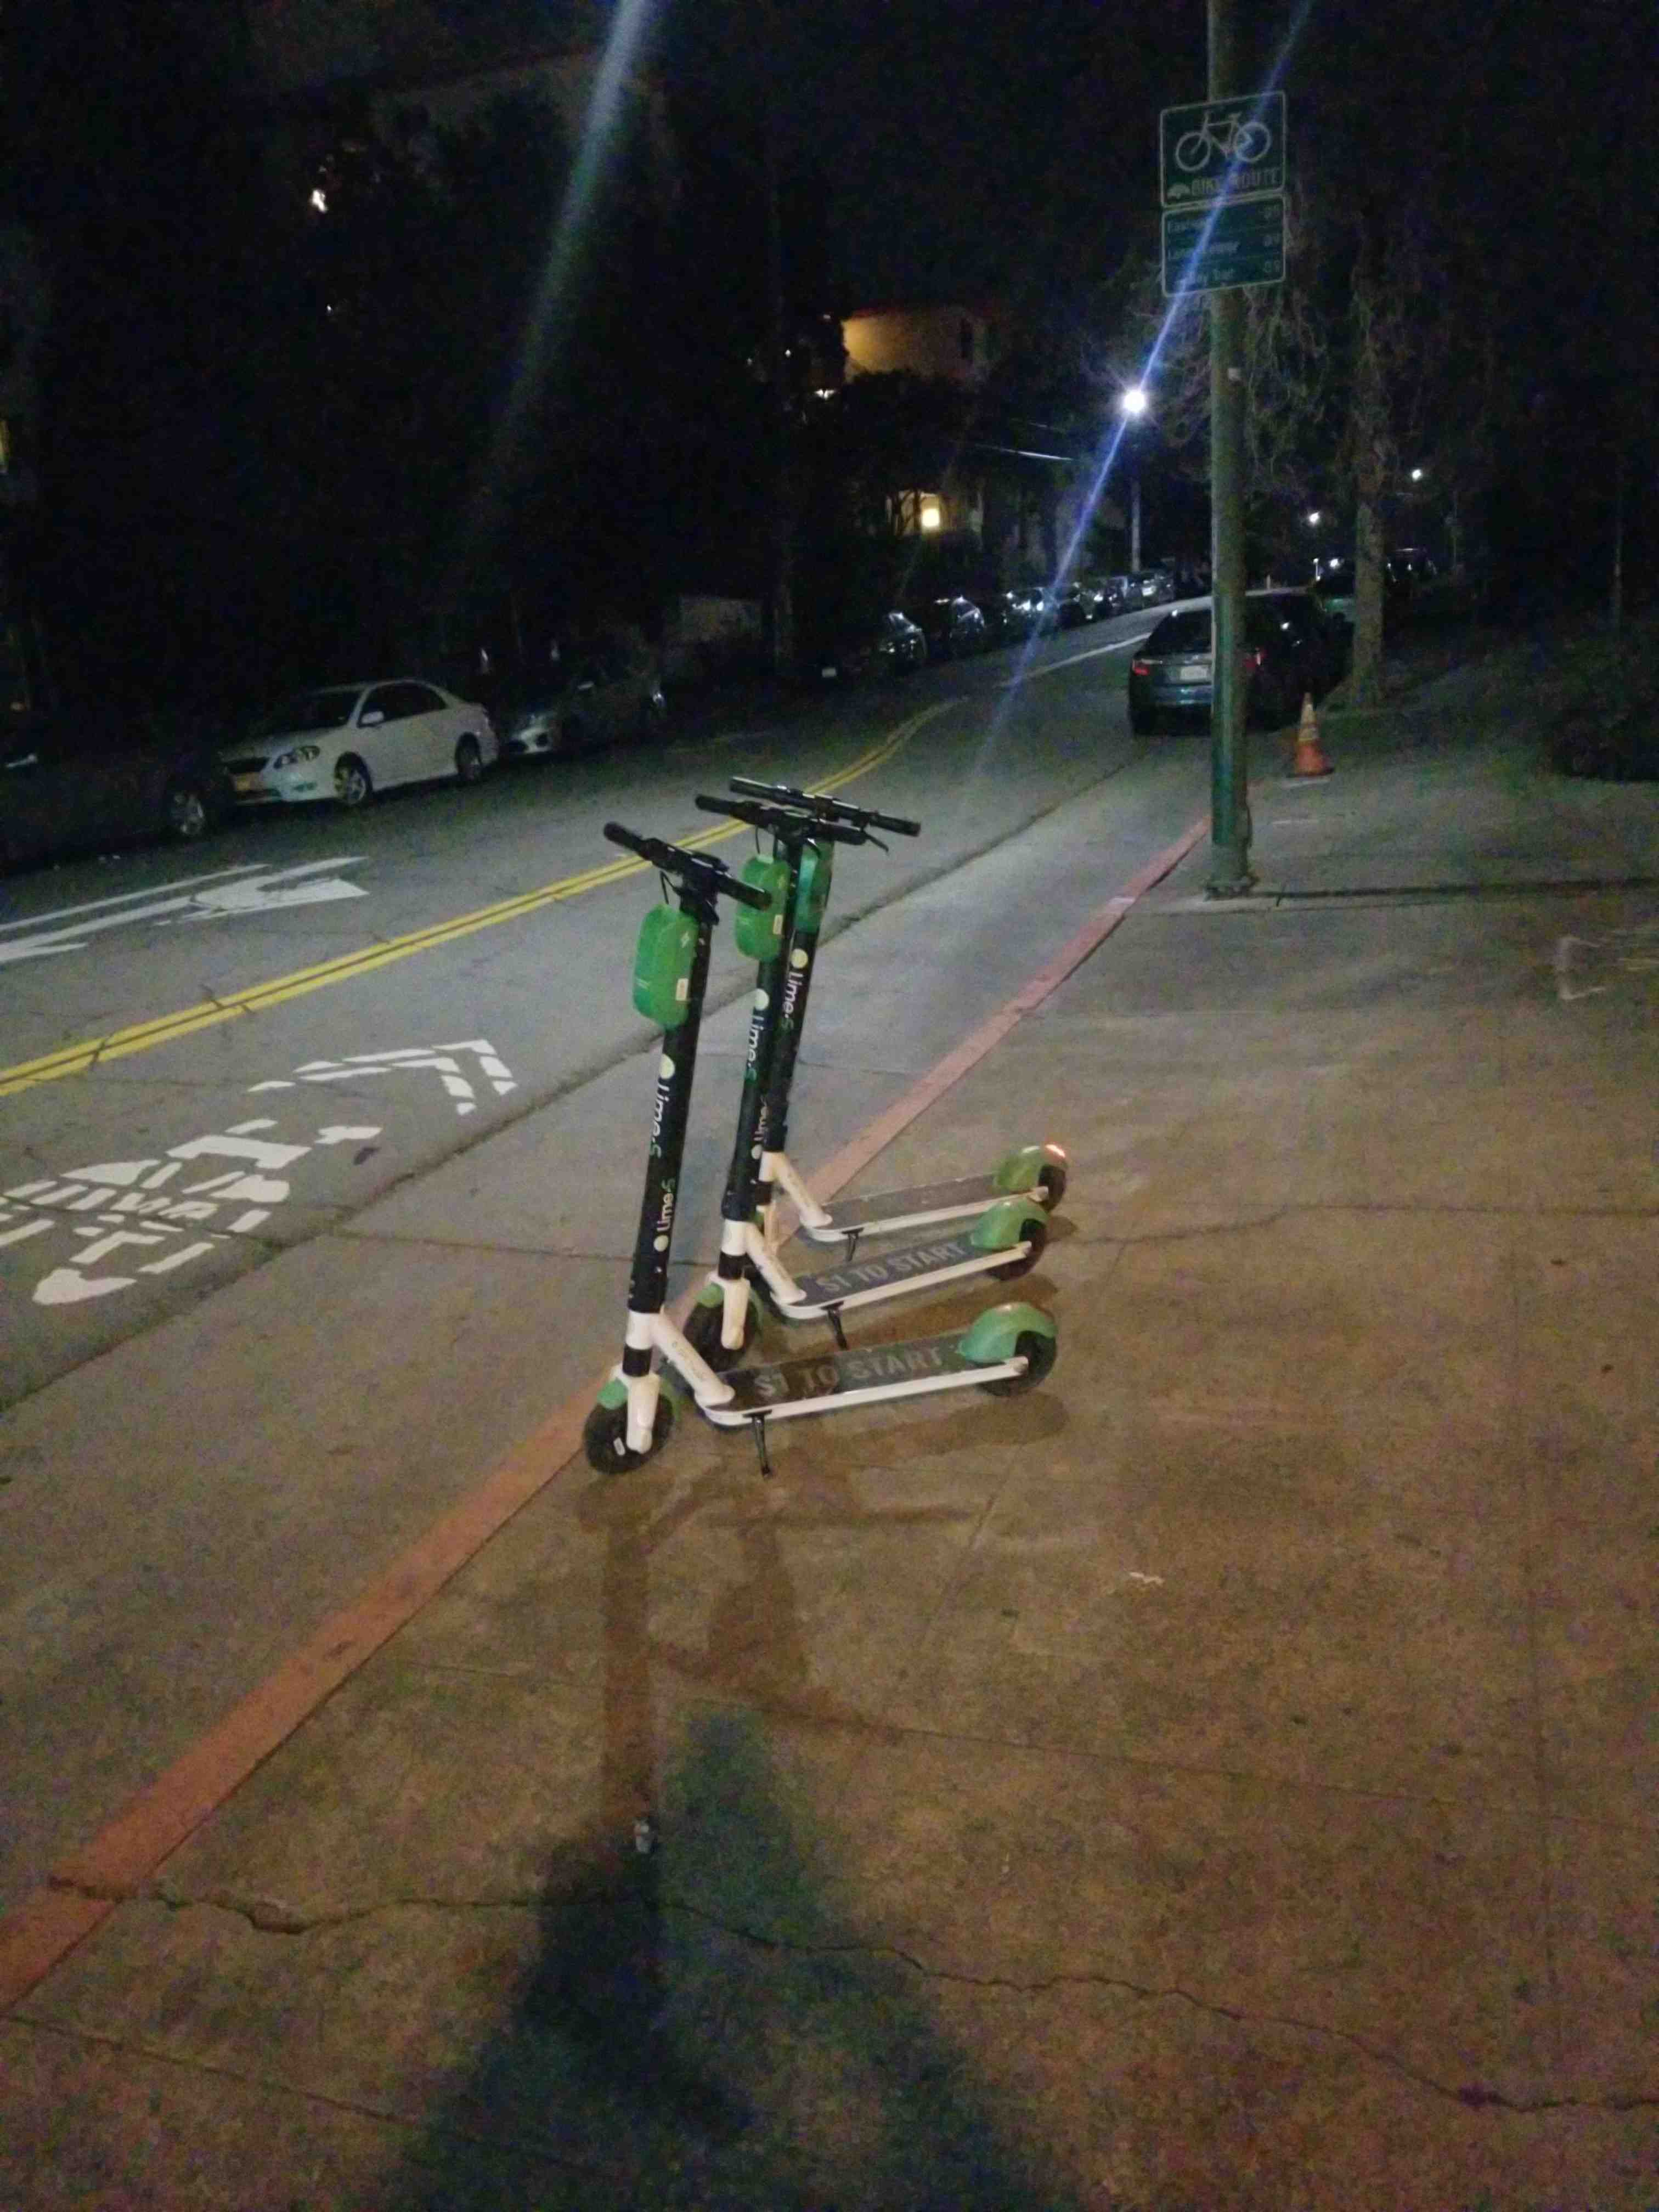too close: (526, 1338, 706, 1543)
